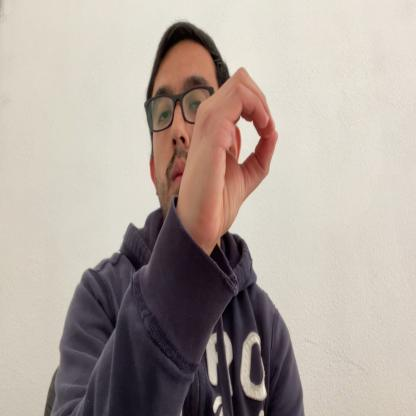O: (187, 64, 278, 254)
